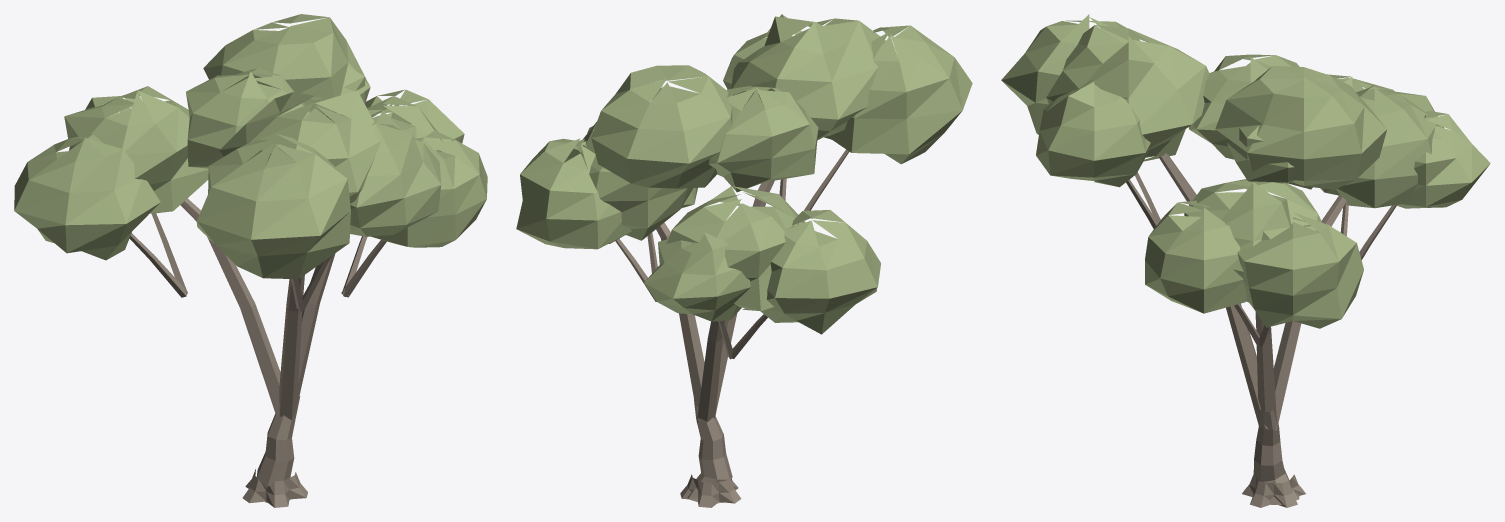
File: temperate-forest-ecology-sweet-chestnut-mature-658d33fe__3781.glb
3 renders of one model, left to right at view 1: azimuth 30°, elevation 25°; view 2: azimuth 150°, elevation 25°; view 3: azimuth 270°, elevation 25°, orthographic. The views are drawn at different scales.
Visible parts, largest first — view 1: sweet-chestnut-mature; view 2: sweet-chestnut-mature; view 3: sweet-chestnut-mature.
Boxes of the visible parts, x1,y1,x2,y2 form: sweet-chestnut-mature: (14,14,487,507); sweet-chestnut-mature: (516,14,972,507); sweet-chestnut-mature: (1001,14,1490,507).
Bounding box in the file's own units: 14.62 × 15.95 × 15.88.
